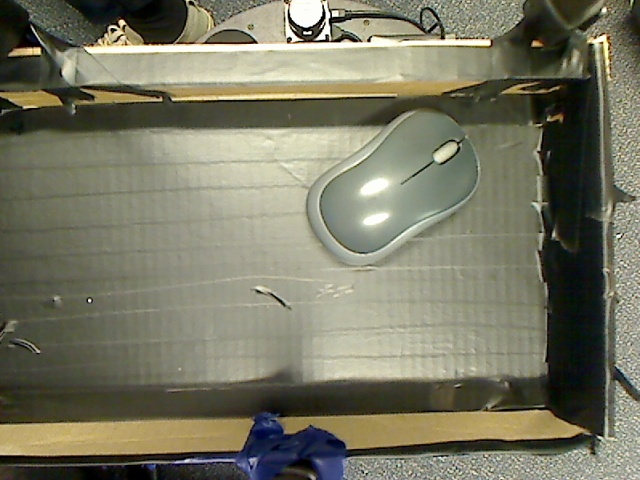mouse: (289, 93, 513, 277)
